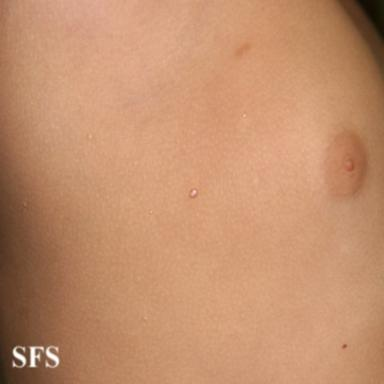Molluscum-Contagiosum: (190, 188, 197, 198)
